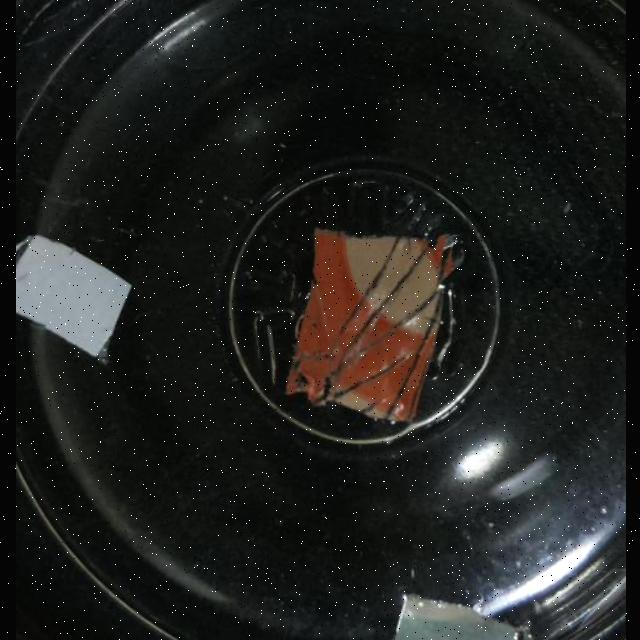Fragment: (292, 230, 451, 416), (15, 232, 131, 358), (382, 596, 534, 640)
